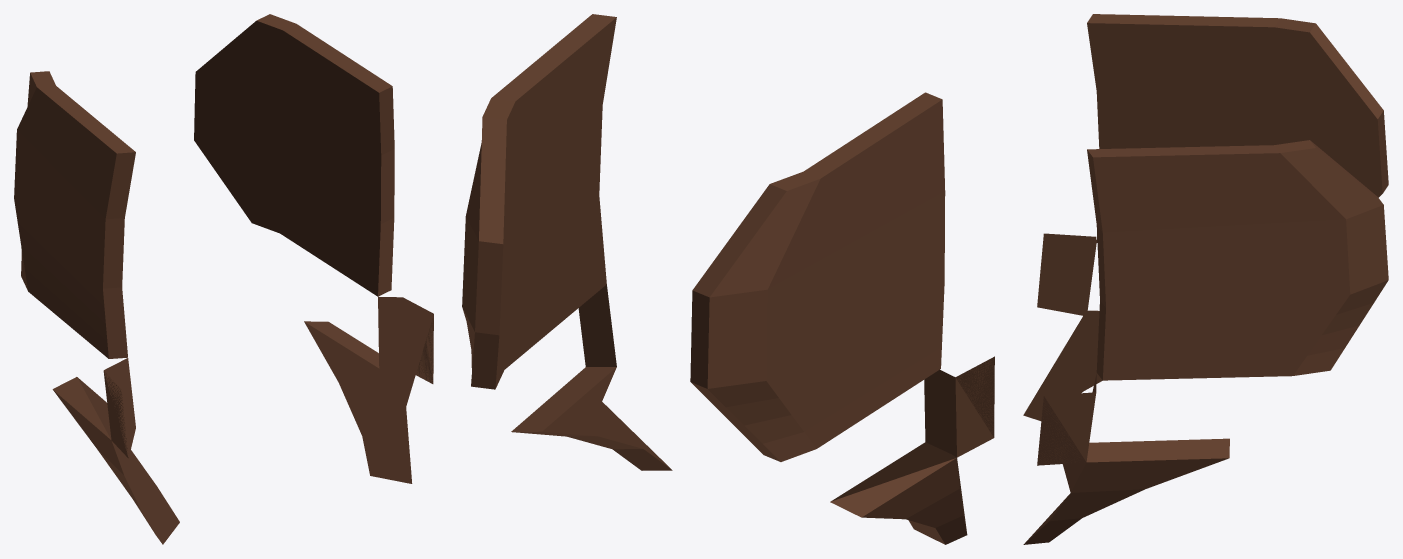
The model's file is PygonattMutant_Protection04.fbx.
3 views of the same model, side by side, from view 1: azimuth 30°, elevation 25°; view 2: azimuth 150°, elevation 25°; view 3: azimuth 270°, elevation 25° (orthographic). The views are drawn at different scales.
Parts seen in each view (by area): view 1: Carapace; view 2: Carapace; view 3: Carapace.
Boxes of the visible parts, x1,y1,x2,y2 form: Carapace: (14,14,433,544); Carapace: (462,14,994,544); Carapace: (1023,14,1388,544).
Bounding box in the file's own units: 124 × 141 × 118.
Materials: 1 (1 with a texture image).
